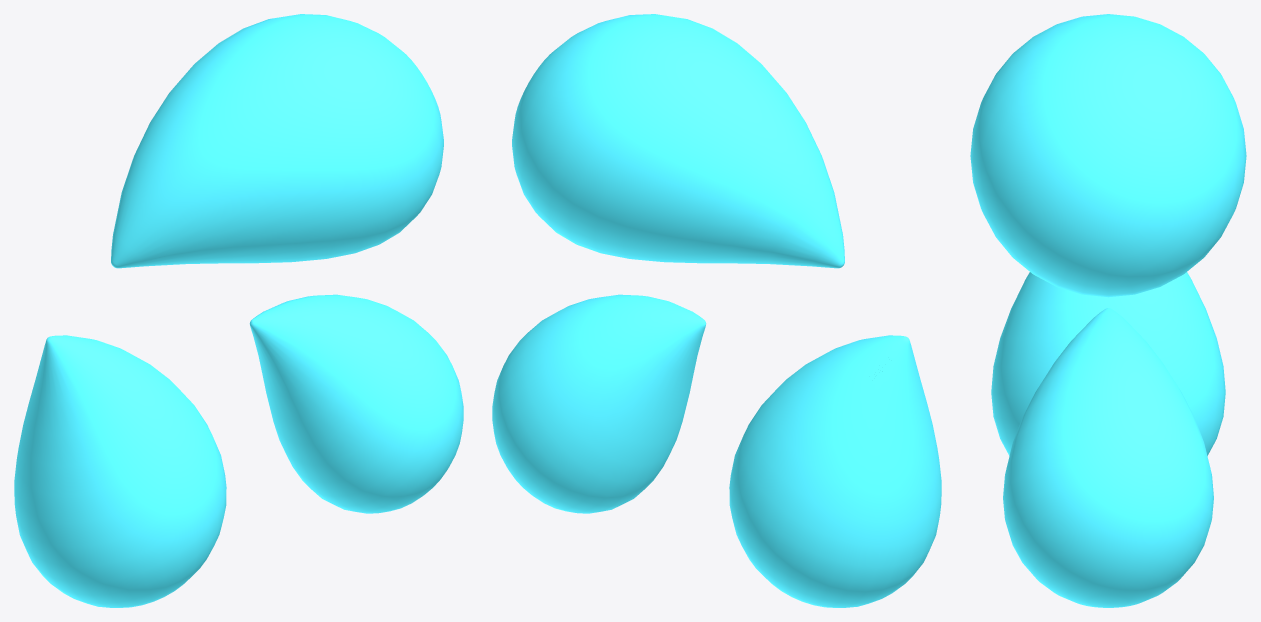
The model's file is sweat_droplets.gltf.
The picture shows the model from 3 angles, left to right: view 1: azimuth 30°, elevation 25°; view 2: azimuth 150°, elevation 25°; view 3: azimuth 270°, elevation 25°; orthographic projection. The views are drawn at different scales.
Visible parts, largest first — view 1: Sphere.375; view 2: Sphere.375; view 3: Sphere.375.
Part boxes in pixels (x1,y1,x2,y2): Sphere.375: (14,14,463,607); Sphere.375: (492,14,941,607); Sphere.375: (970,14,1246,607).
Size of the model in its own units: 1.4 by 1.67 by 0.7362.
1 material, 1 textured.
